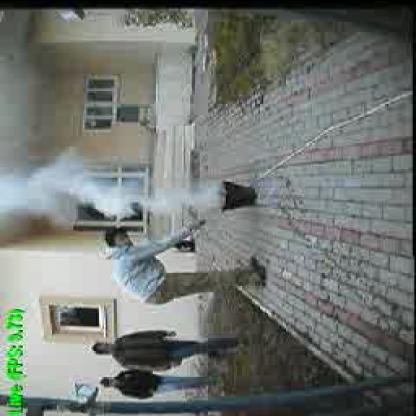Smoke: (2, 175, 226, 217)
